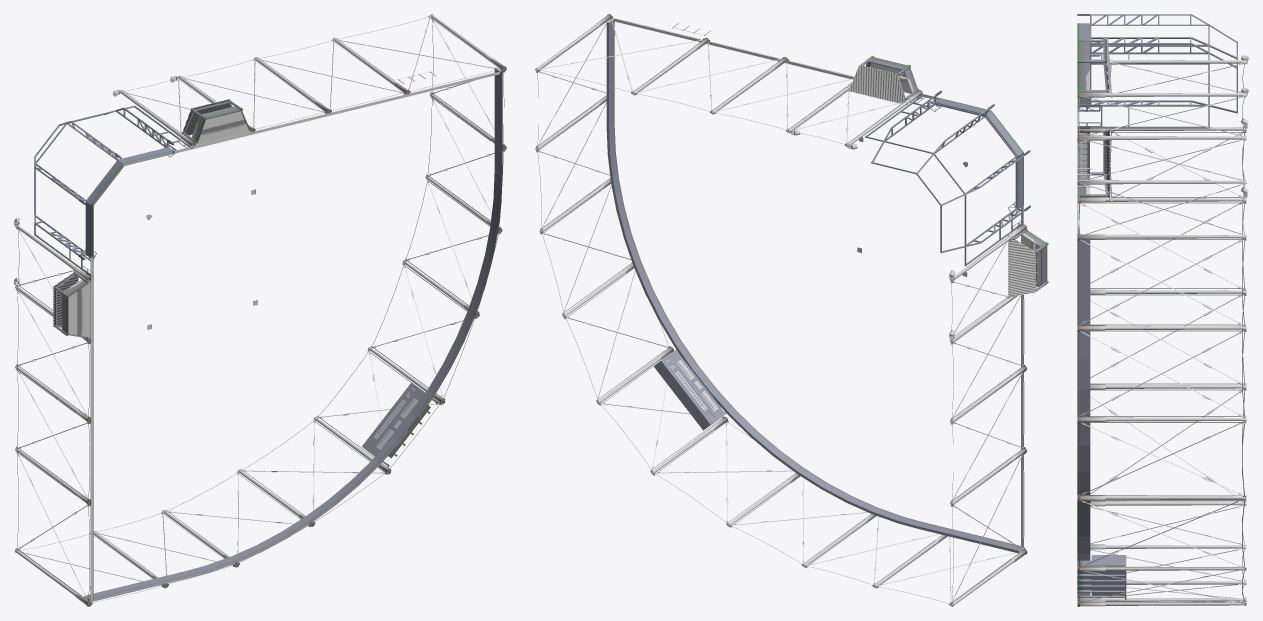
The model's file is SM_000386_merge_w40h012A1_blue_piller_wall_lv1.fbx.
3 views of the same model, side by side, from view 1: azimuth 30°, elevation 25°; view 2: azimuth 150°, elevation 25°; view 3: azimuth 270°, elevation 25° (orthographic). The views are drawn at different scales.
Visible parts, largest first — view 1: SM_000386.001; view 2: SM_000386.001; view 3: SM_000386.001.
Part boxes in pixels (x1=…): SM_000386.001: x1=14, y1=14, x2=506, y2=606; SM_000386.001: x1=535, y1=14, x2=1048, y2=606; SM_000386.001: x1=1077, y1=14, x2=1248, y2=606.
Size of the model in its own units: 68.31 by 68.31 by 19.94.
